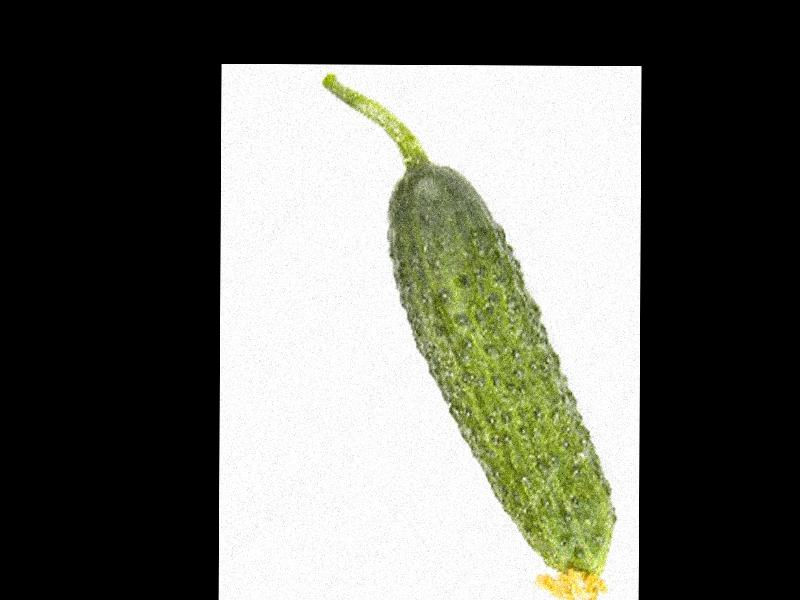Cucumber: (320, 74, 619, 600)
